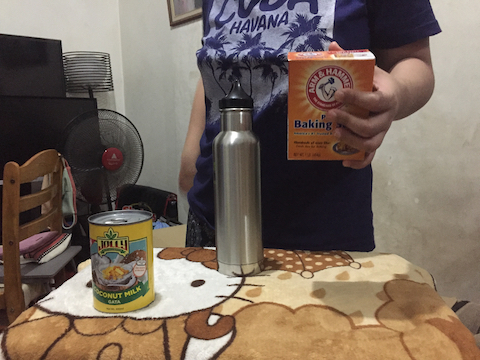bottle: (212, 79, 264, 274)
box: (282, 44, 379, 164)
can: (89, 204, 158, 315)
grab: (325, 76, 399, 159)
